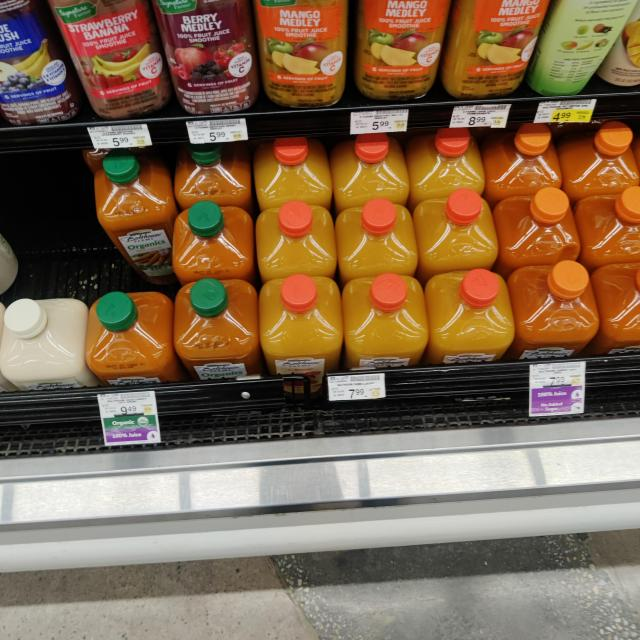Juice: (57, 0, 169, 119), (156, 0, 269, 117), (96, 154, 186, 273), (452, 0, 551, 102), (363, 0, 457, 105), (263, 0, 346, 111), (432, 268, 524, 362), (178, 286, 268, 377), (263, 271, 342, 369), (5, 294, 90, 384), (514, 260, 600, 348), (500, 188, 590, 266), (352, 277, 430, 365), (88, 296, 171, 378), (420, 198, 510, 267), (563, 118, 640, 194), (170, 203, 256, 271), (259, 205, 344, 273), (491, 124, 568, 190), (344, 207, 423, 269), (263, 132, 333, 201), (182, 145, 254, 207), (585, 182, 640, 260), (348, 138, 411, 202)
